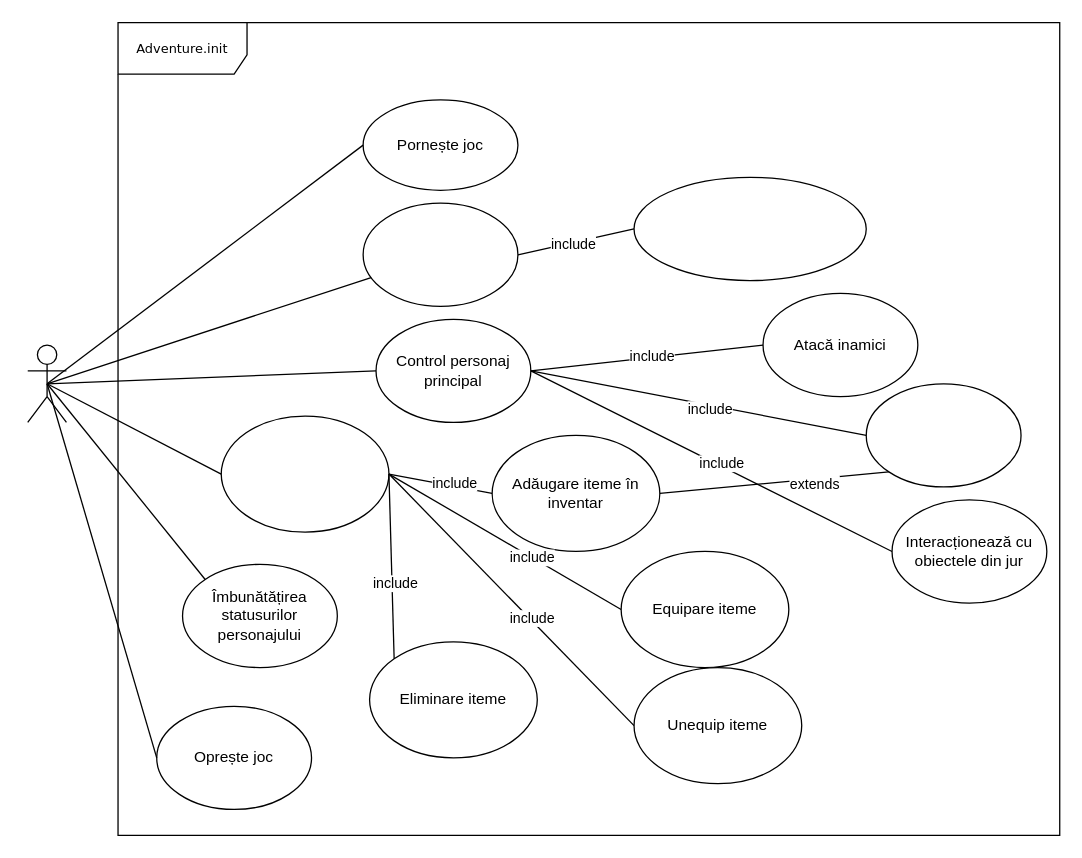
Image size: 1082x858. Some labels were removed from this diagram. The centre of each missing label's shape, as x and y in pixels:
"Colectează resurse" goes at (x=943, y=434).
"Jucător" goes at (x=46, y=383).
"Modifică conținutul inventarului personajului principal" goes at (x=304, y=473).
"Modifică setările sesiunii de joc" goes at (x=440, y=254).
"Modifică volumul melodiei de fundal și al altor efecte sonore" goes at (x=749, y=228).
